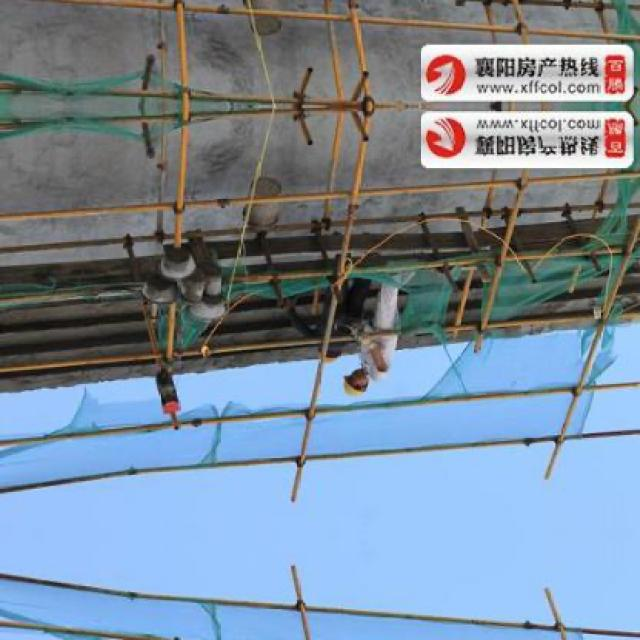con casco: (339, 362, 382, 406)
